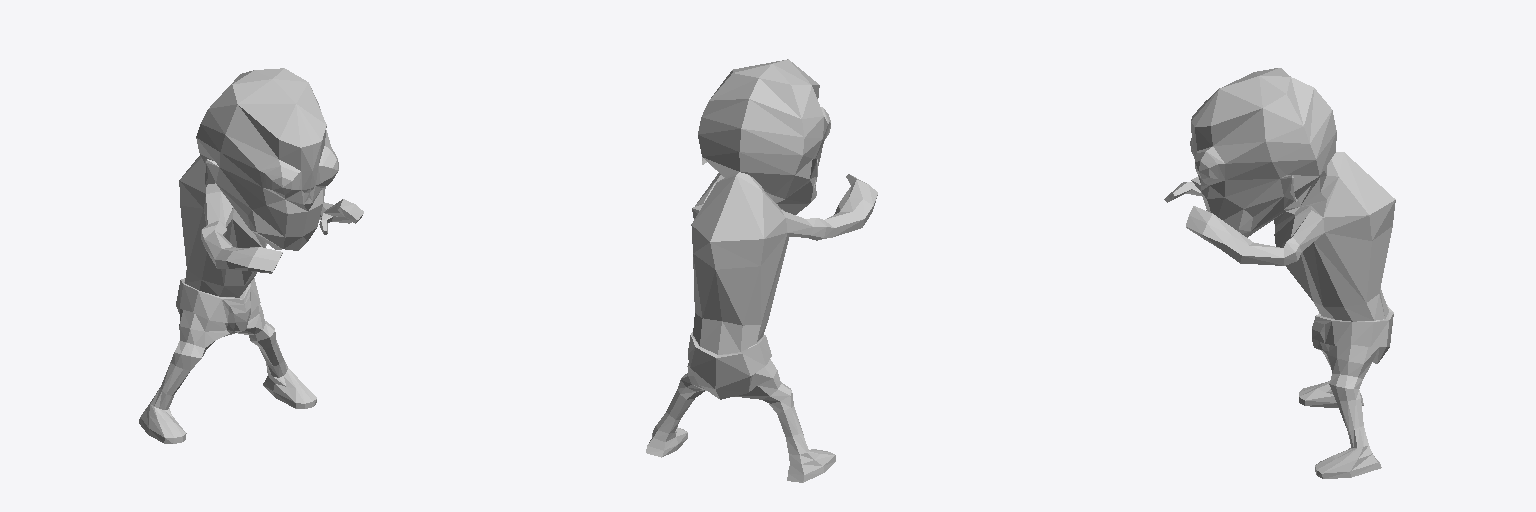
File: GuardianNormal_000117.obj
3 views of the same model, side by side, from view 1: azimuth 30°, elevation 25°; view 2: azimuth 150°, elevation 25°; view 3: azimuth 270°, elevation 25° (orthographic).
Visible parts, largest first — view 1: untitled2:Mesh1.001; view 2: untitled2:Mesh1.001; view 3: untitled2:Mesh1.001.
Part boxes in pixels (left/top/right/bottom): untitled2:Mesh1.001: left=139, top=68, right=363, bottom=443; untitled2:Mesh1.001: left=646, top=59, right=877, bottom=482; untitled2:Mesh1.001: left=1164, top=68, right=1395, bottom=478.
Size of the model in its own units: 7.01 by 14.92 by 8.55.